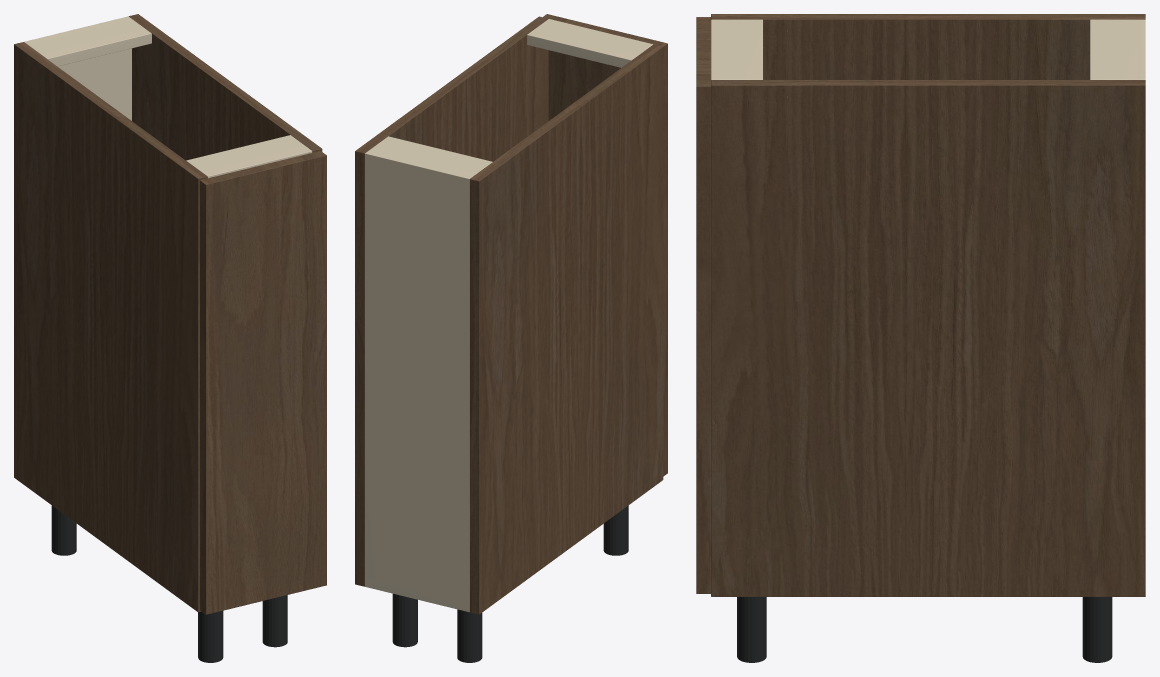
Rendered from oppein-ply-mso-b09fh.glb.
3 renders of one model, left to right at view 1: azimuth 30°, elevation 25°; view 2: azimuth 150°, elevation 25°; view 3: azimuth 270°, elevation 25°, orthographic. The views are drawn at different scales.
Visible parts, largest first — view 1: Cabinet side, Door, Cabinet side.001, Cabinet back, Top support rail, Top support rail.001, Adjustable foot.001, Adjustable foot.003, Adjustable foot; view 2: Cabinet side, Cabinet back, Cabinet side.001, Door, Top support rail.001, Top support rail, Adjustable foot, Adjustable foot.002, Adjustable foot.001, Cabinet bottom; view 3: Cabinet side.001, Cabinet side, Door, Top support rail.001, Top support rail, Adjustable foot.002, Adjustable foot.003.
Part boxes in pixels (x1=…): Cabinet side: x1=14, y1=42, x2=207, y2=612; Door: x1=200, y1=151, x2=326, y2=614; Cabinet side.001: x1=129, y1=14, x2=322, y2=160; Cabinet back: x1=24, y1=16, x2=131, y2=120; Top support rail: x1=26, y1=19, x2=151, y2=66; Top support rail.001: x1=186, y1=135, x2=312, y2=178; Adjustable foot.001: x1=198, y1=611, x2=223, y2=662; Adjustable foot.003: x1=262, y1=595, x2=287, y2=647; Adjustable foot: x1=51, y1=505, x2=76, y2=555; Cabinet side: x1=469, y1=44, x2=663, y2=614; Cabinet back: x1=365, y1=151, x2=472, y2=612; Cabinet side.001: x1=355, y1=16, x2=548, y2=586; Door: x1=543, y1=14, x2=667, y2=476; Top support rail.001: x1=527, y1=19, x2=652, y2=67; Top support rail: x1=369, y1=136, x2=492, y2=176; Adjustable foot: x1=457, y1=609, x2=482, y2=662; Adjustable foot.002: x1=392, y1=593, x2=417, y2=647; Adjustable foot.001: x1=603, y1=505, x2=628, y2=555; Cabinet bottom: x1=365, y1=577, x2=466, y2=611; Cabinet side.001: x1=711, y1=80, x2=1145, y2=596; Cabinet side: x1=711, y1=14, x2=1145, y2=79; Door: x1=696, y1=17, x2=710, y2=593; Top support rail.001: x1=711, y1=19, x2=762, y2=79; Top support rail: x1=1090, y1=19, x2=1141, y2=79; Adjustable foot.002: x1=1082, y1=597, x2=1112, y2=662; Adjustable foot.003: x1=737, y1=597, x2=766, y2=662.
Bounding box in the file's own units: 0.2286 × 0.8763 × 0.6064.
Materials: 3 (1 with a texture image).
